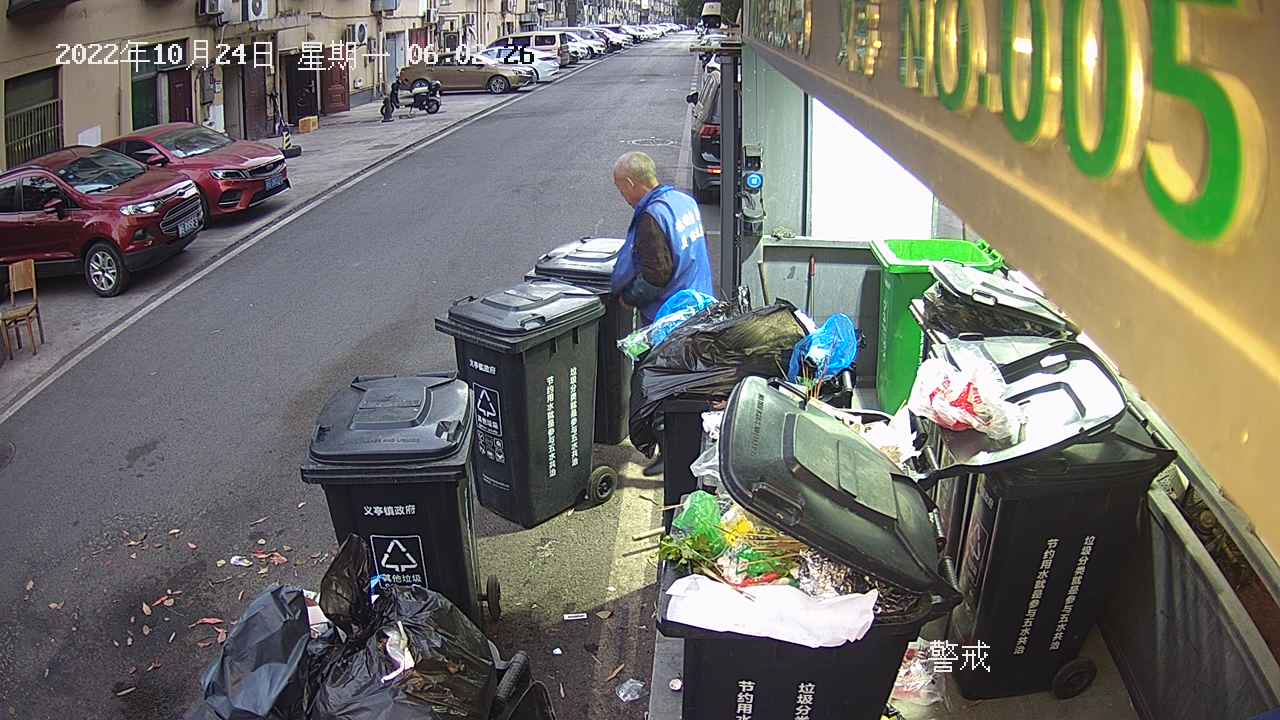garbage-bag: (177, 529, 499, 720)
worker: (609, 148, 717, 476)
